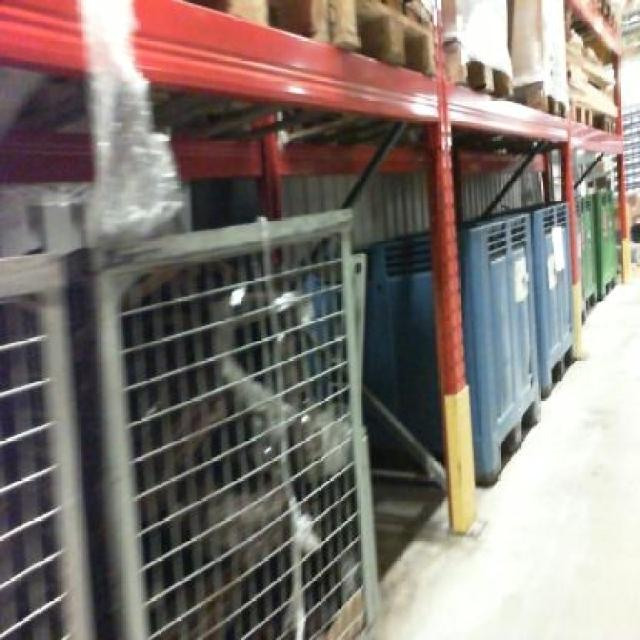pallets: (0, 209, 374, 637)
